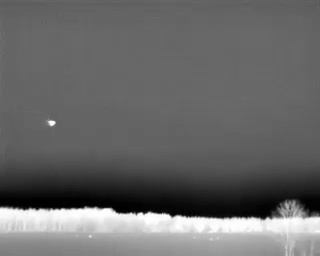BIRD: (44, 116, 61, 131)
